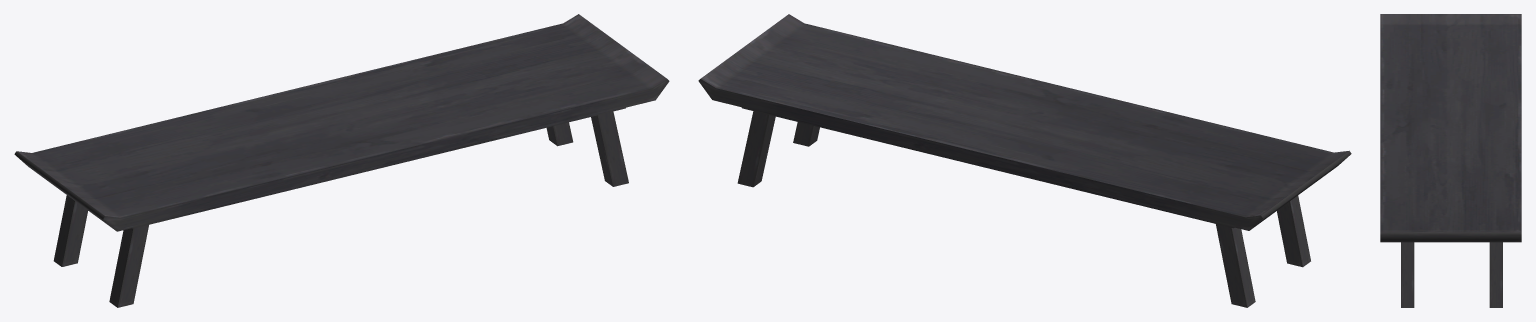
The model's file is Homeworld_Interior_Dq_Table_Table_01_Vo.fbx.
3 renders of one model, left to right at view 1: azimuth 30°, elevation 25°; view 2: azimuth 150°, elevation 25°; view 3: azimuth 270°, elevation 25°, orthographic. The views are drawn at different scales.
Parts seen in each view (by area): view 1: Indoor_Dq_Prop_Comp_Table_01_Vo; view 2: Indoor_Dq_Prop_Comp_Table_01_Vo; view 3: Indoor_Dq_Prop_Comp_Table_01_Vo.
Part boxes in pixels (x1,y1,x2,y2): Indoor_Dq_Prop_Comp_Table_01_Vo: (14,14,669,307); Indoor_Dq_Prop_Comp_Table_01_Vo: (698,14,1351,307); Indoor_Dq_Prop_Comp_Table_01_Vo: (1380,14,1521,307).
Bounding box in the file's own units: 3.12 × 0.5666 × 0.848.
